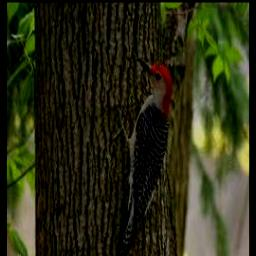Woodpecker: (113, 56, 173, 254)
